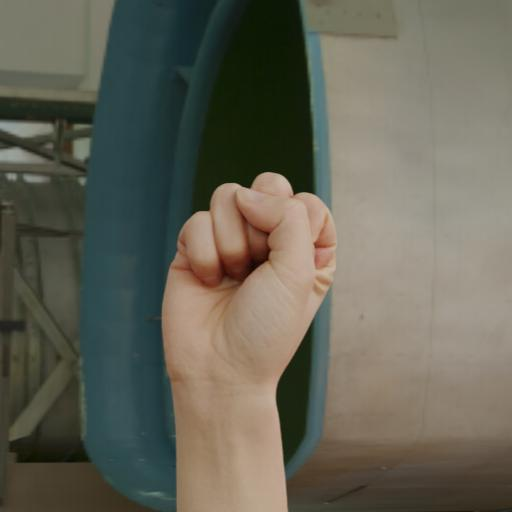S: (144, 167, 348, 406)
